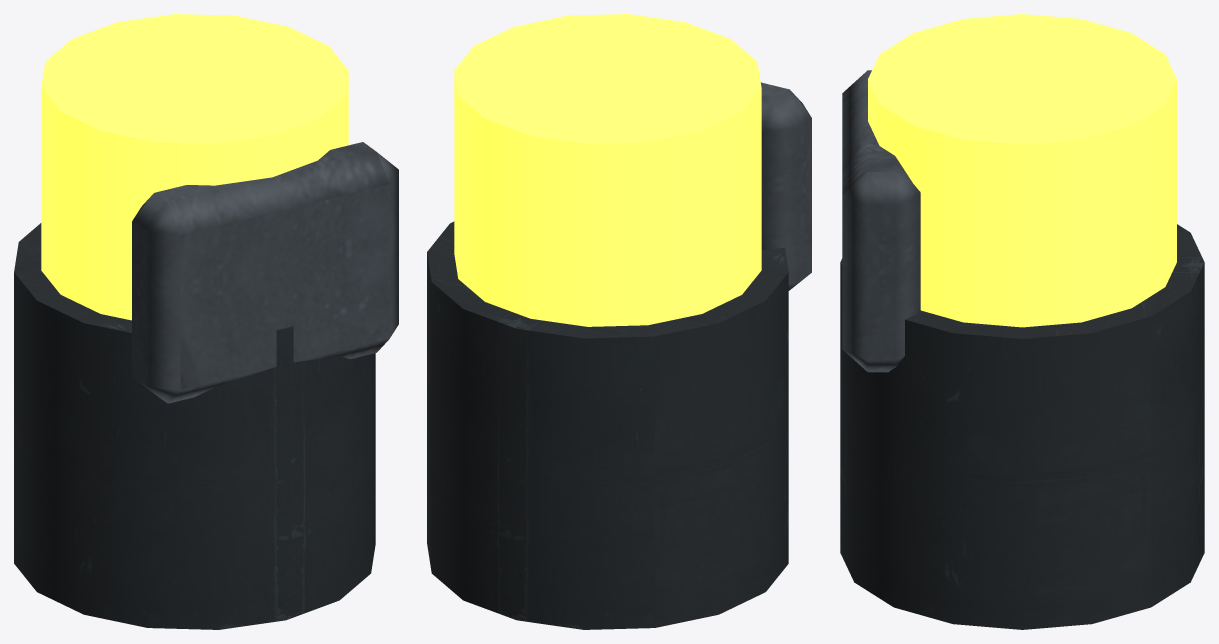
Rendered from beacon.fbx.
3 views of the same model, side by side, from view 1: azimuth 30°, elevation 25°; view 2: azimuth 150°, elevation 25°; view 3: azimuth 270°, elevation 25° (orthographic).
Visible parts, largest first — view 1: SM_anchor_beacon; view 2: SM_anchor_beacon; view 3: SM_anchor_beacon.
Part boxes in pixels (x1,y1,x2,y2): SM_anchor_beacon: [14, 14, 398, 629]; SM_anchor_beacon: [427, 14, 811, 629]; SM_anchor_beacon: [840, 14, 1204, 629].
Size of the model in its own units: 0.186 by 0.267 by 0.186.
3 materials, 2 textured.
